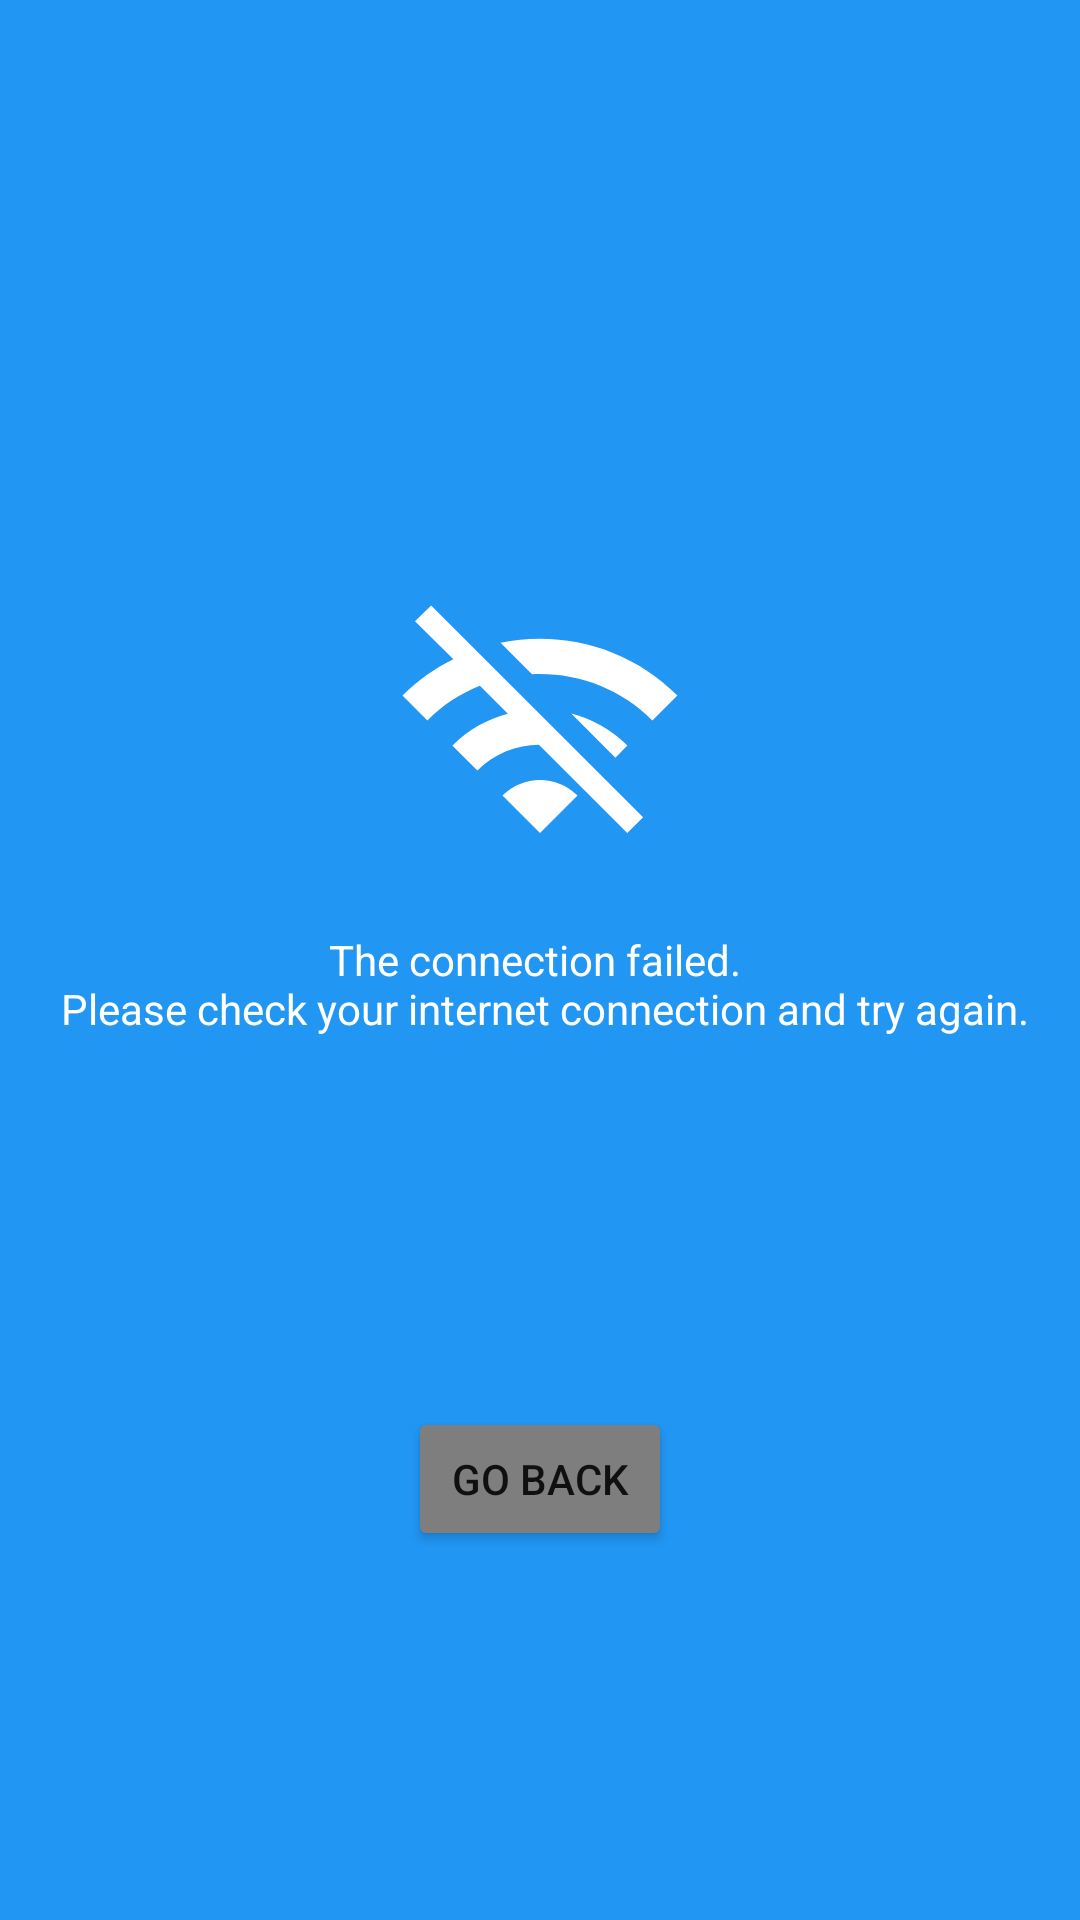

Locate icon controls on the screen. Image size 1080*1920, boxes as {"x1": x1, "y1": y1, "x2": x2, "y2": y2}.
Wifi not working-Image: {"x1": 402, "y1": 605, "x2": 678, "y2": 833}
